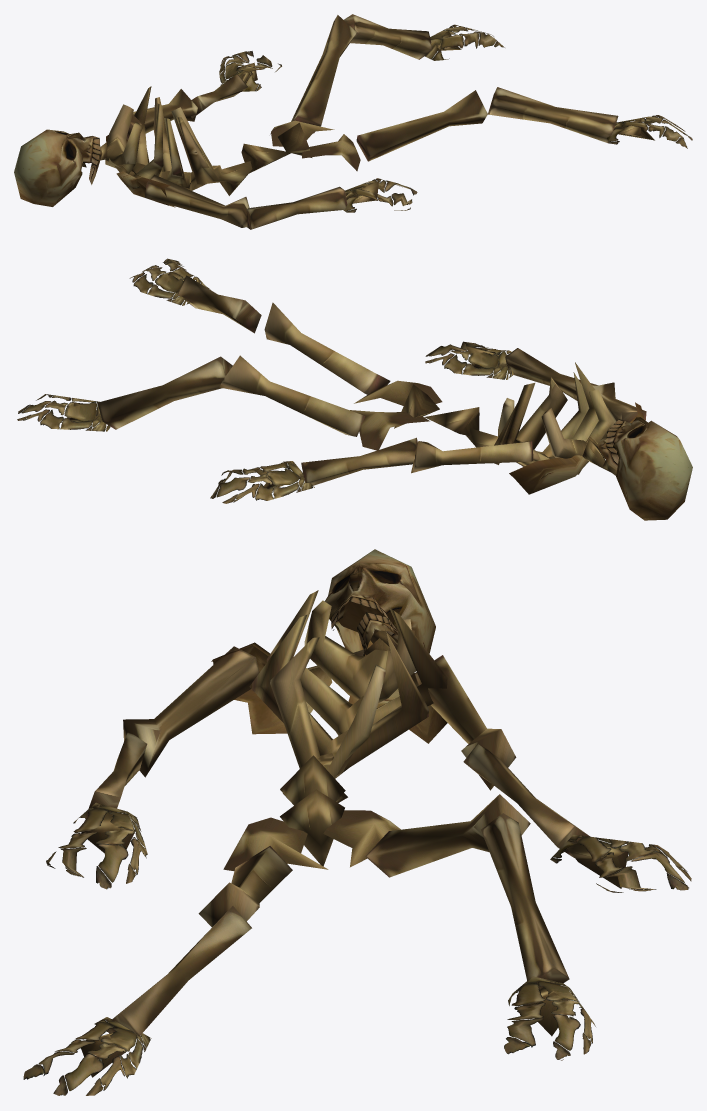
File: skeletonlaying01.obj
3 renders of one model, top to bottom at view 1: azimuth 30°, elevation 25°; view 2: azimuth 150°, elevation 25°; view 3: azimuth 270°, elevation 25°, orthographic. The views are drawn at different scales.
Visible parts, largest first — view 1: Geoset0, Geoset2, Geoset1; view 2: Geoset0, Geoset2, Geoset1; view 3: Geoset0, Geoset1, Geoset2.
Boxes of the visible parts, box(x1,y1,x2,y2) form: Geoset0: box(82, 14, 654, 229); Geoset2: box(14, 129, 175, 207); Geoset1: box(219, 24, 692, 212); Geoset0: box(61, 271, 646, 488); Geoset2: box(509, 402, 692, 520); Geoset1: box(17, 258, 514, 503); Geoset0: box(81, 590, 628, 1077); Geoset1: box(23, 802, 691, 1095); Geoset2: box(211, 549, 447, 743).
Bounding box in the file's own units: 2.08 × 0.3725 × 1.3.
3 materials, 3 textured.
